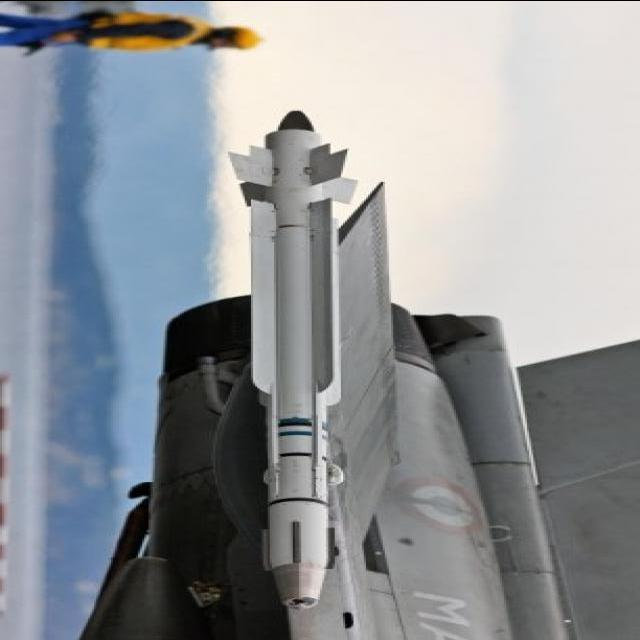missile: (227, 105, 357, 616)
